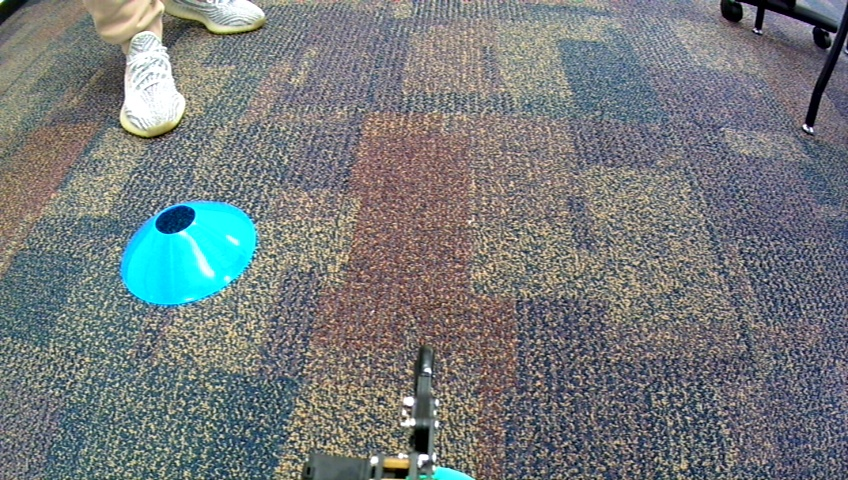cone: (118, 198, 258, 305)
